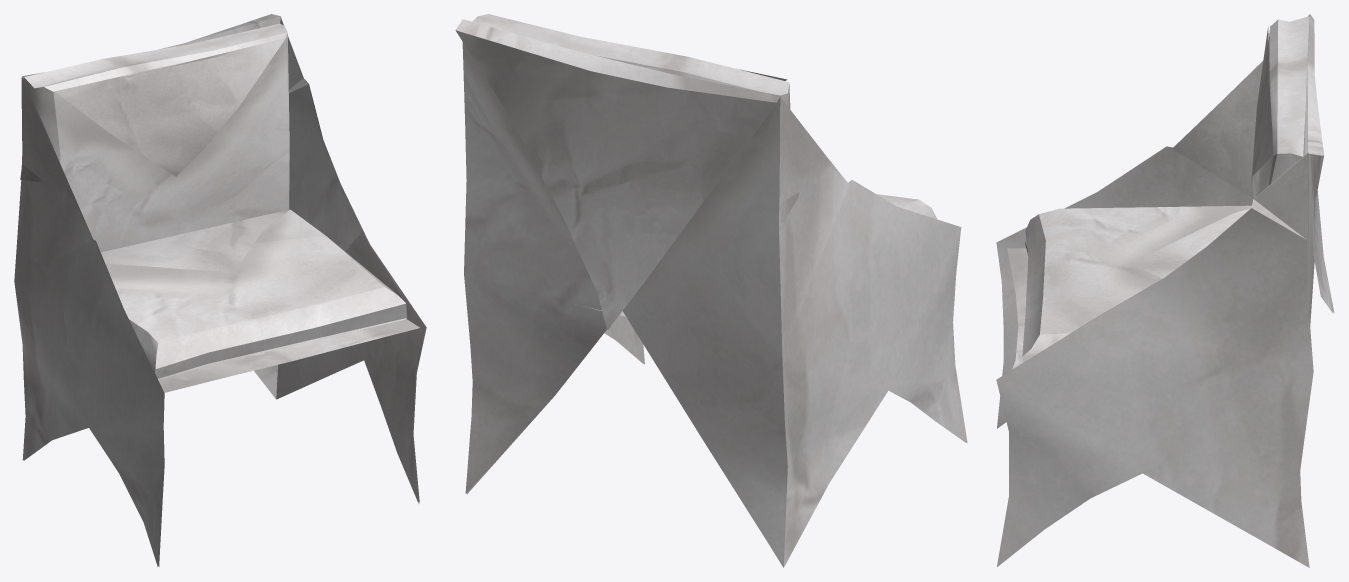
Rendered from Silla.FBX.
3 views of the same model, side by side, from view 1: azimuth 30°, elevation 25°; view 2: azimuth 150°, elevation 25°; view 3: azimuth 270°, elevation 25° (orthographic). The views are drawn at different scales.
Visible parts, largest first — view 1: 0Sillon007; view 2: 0Sillon007; view 3: 0Sillon007.
Part boxes in pixels (<box>): 0Sillon007: <box>14,14,426,566</box>; 0Sillon007: <box>455,14,967,567</box>; 0Sillon007: <box>996,14,1334,567</box>.
Size of the model in its own units: 113 by 110 by 151.
